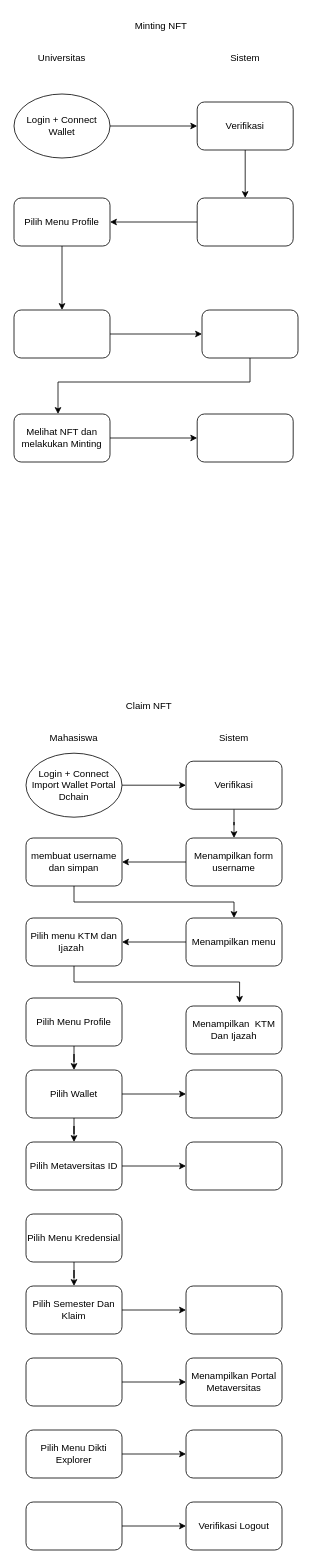
The diagram is 312 pixels wide and 1564 high, and some of its shapes have lost their labels. The centre of each missing label's shape, as x and y in pixels:
"Aktivasi Minting" goes at (x=244, y=437).
"Create NFT" goes at (x=61, y=333).
"Menampilkan Dashbard" goes at (x=244, y=221).
"Menampilkan Detail Metaversitas ID" goes at (x=233, y=1165).
"Menampilkan Dikti Explorer" goes at (x=233, y=1453).
"Menampilkan KHS Mahasiwa" goes at (x=233, y=1309).
"Menampilkan Wallet" goes at (x=233, y=1093).
"Pilih Menu Account" goes at (x=73, y=1525).
"Pillih Portal Metaversitas" goes at (x=73, y=1381).
"Save NFT" goes at (x=249, y=333).
